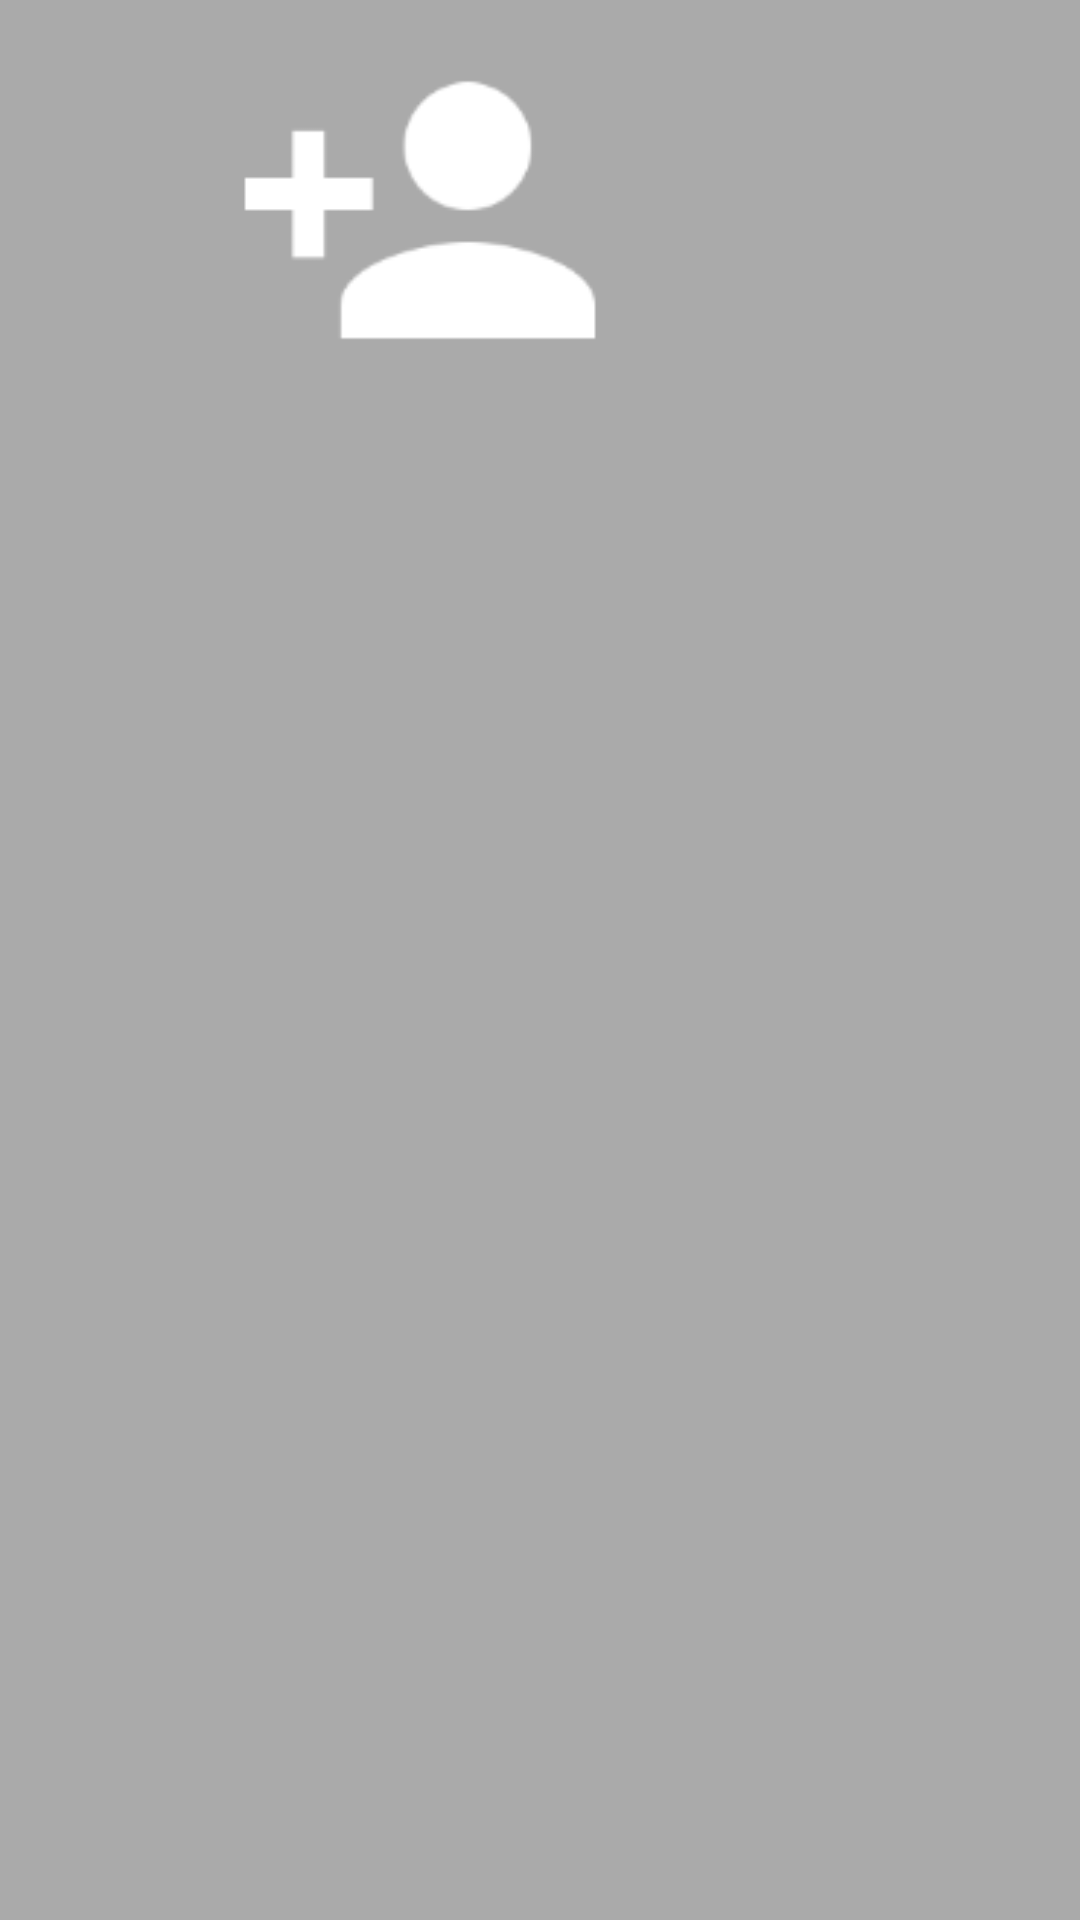

Icons on this 1080x1920 Android screen, each with the point to tap as [x,y]:
person add: [420,210]
